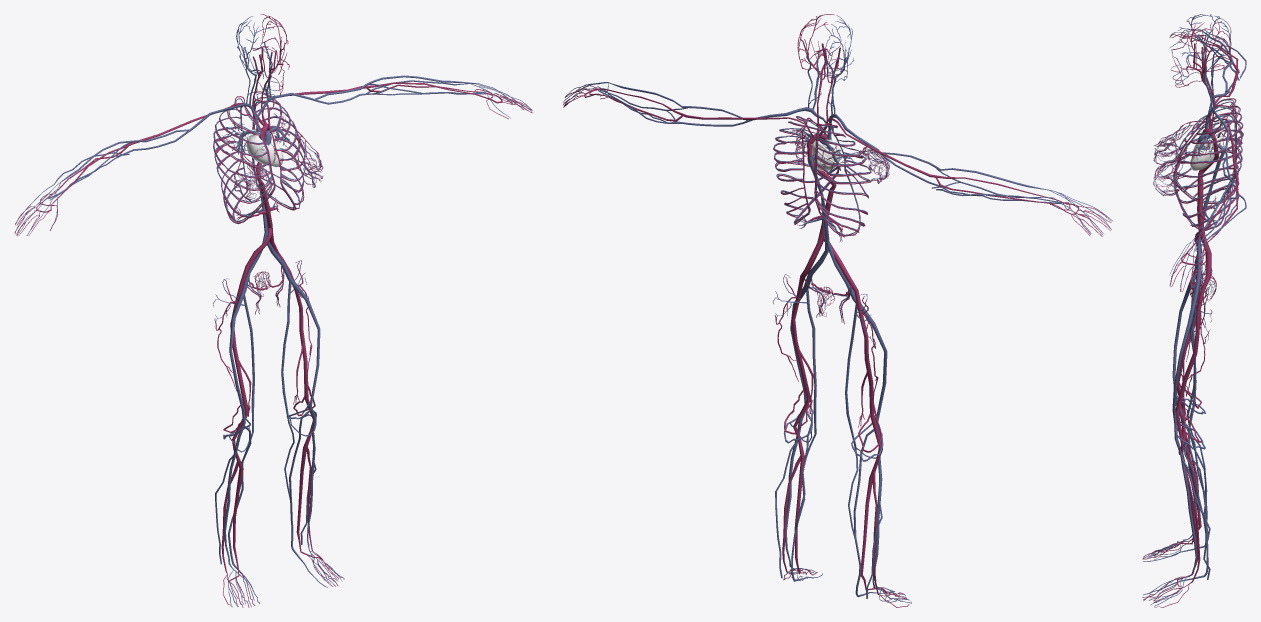
The model's file is cuerpo.glb.
The picture shows the model from 3 angles, left to right: view 1: azimuth 30°, elevation 25°; view 2: azimuth 150°, elevation 25°; view 3: azimuth 270°, elevation 25°; orthographic projection. The views are drawn at different scales.
Visible parts, largest first — view 1: Py_Cs_Vs, Py_Cs_Av; view 2: Py_Cs_Vs, Py_Cs_Av; view 3: Py_Cs_Vs, Py_Cs_Av, pasted__Py_Cs_Ht_01, polySurface2.
Boxes of the visible parts, <box> form: Py_Cs_Vs: <box>14,16,533,607</box>; Py_Cs_Av: <box>15,14,531,607</box>; Py_Cs_Vs: <box>563,15,1113,602</box>; Py_Cs_Av: <box>563,14,1111,607</box>; Py_Cs_Vs: <box>1143,14,1246,606</box>; Py_Cs_Av: <box>1142,20,1243,607</box>; pasted__Py_Cs_Ht_01: <box>1190,144,1219,170</box>; polySurface2: <box>1196,122,1223,152</box>.
Bounding box in the file's own units: 1.61 × 1.66 × 0.2804.
